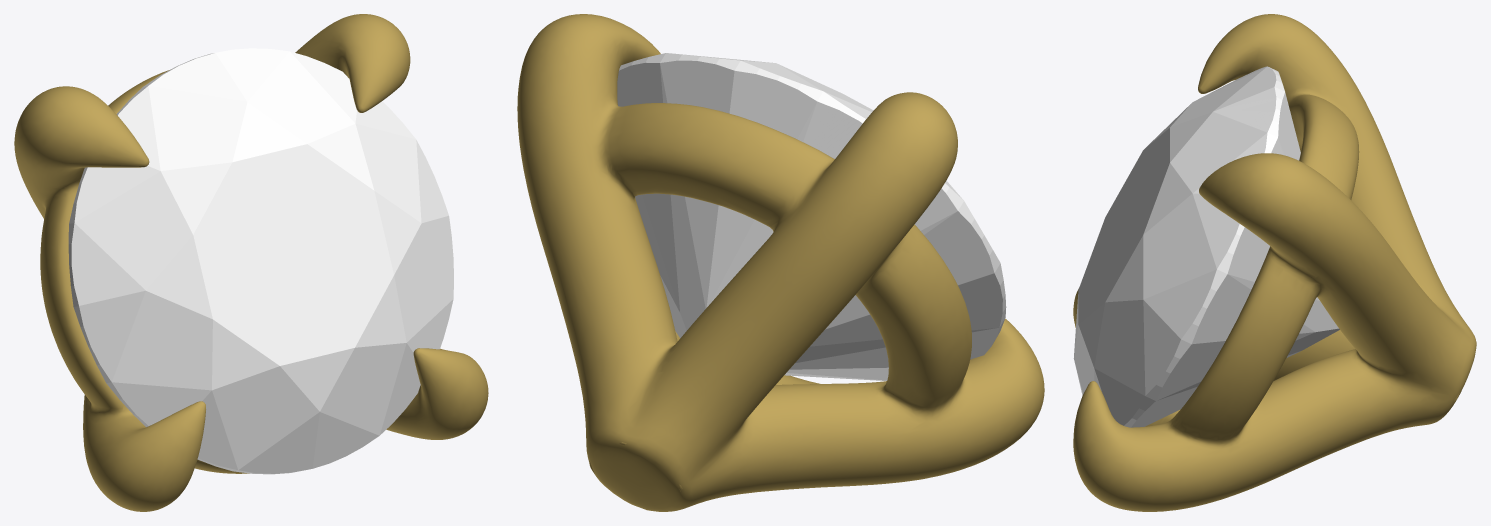
File: ijwelldaimand test.glb
3 renders of one model, left to right at view 1: azimuth 30°, elevation 25°; view 2: azimuth 150°, elevation 25°; view 3: azimuth 270°, elevation 25°, orthographic. The views are drawn at different scales.
Visible parts, largest first — view 1: Diamond_Round, Mesh_0.001; view 2: Mesh_0.001, Diamond_Round; view 3: Mesh_0.001, Diamond_Round.
Part boxes in pixels (x1,y1,x2,y2): Diamond_Round: (68, 48, 453, 474); Mesh_0.001: (14, 14, 488, 511); Mesh_0.001: (517, 14, 1044, 511); Diamond_Round: (617, 53, 1006, 380); Mesh_0.001: (1073, 14, 1476, 511); Diamond_Round: (1073, 66, 1339, 427).
Size of the model in its own units: 1.32 by 1.26 by 1.28.
